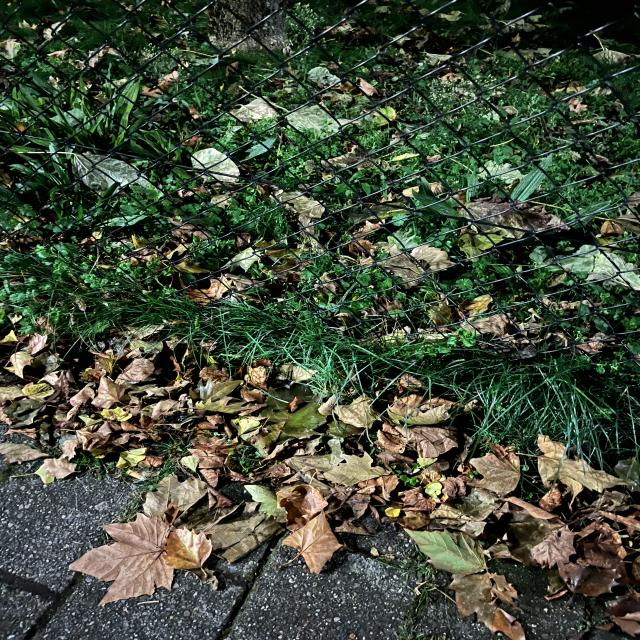leaves: (0, 322, 117, 474), (94, 487, 245, 604)
plants: (5, 1, 636, 464), (118, 341, 639, 640)
weed: (398, 563, 431, 621)
